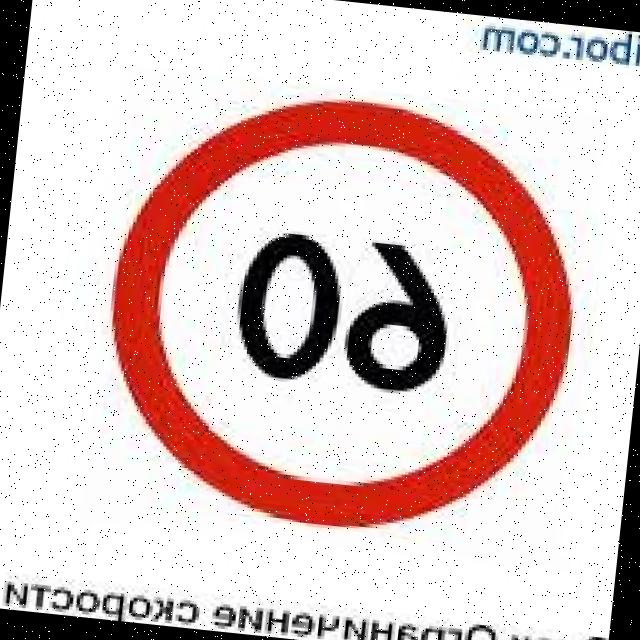speed_limit_60: (84, 70, 602, 556)
